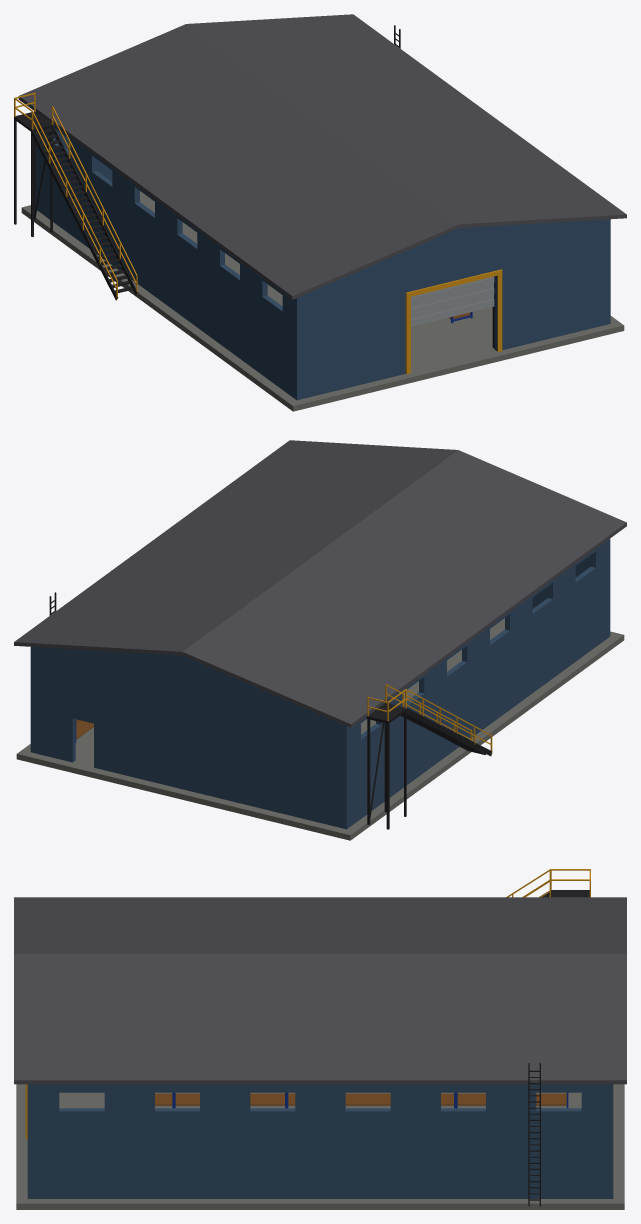
The model's file is warehouse.obj.
The picture shows the model from 3 angles, top to bottom: view 1: azimuth 30°, elevation 25°; view 2: azimuth 150°, elevation 25°; view 3: azimuth 270°, elevation 25°; orthographic projection. The views are drawn at different scales.
Parts seen in each view (by area): view 1: Roof_Left, Roof_Right, LeftWall_BelowWindows, FrontWall_RightOfDoor, FrontWall_LeftOfDoor, Floor, Stairs, FrontWall_Gable, GarageDoor, FrontWall_AboveDoor, Stairs_Railing, RoofPlatform (+1 smaller); view 2: Roof_Left, Roof_Right, BackWall_RightOfDoor, LeftWall_BelowWindows, Floor, BackWall_LeftOfDoor, BackWall_Gable, RoofPlatform, BackWall_AboveDoor, Stairs, Stairs_Railing, FrontWall_LeftOfDoor (+1 smaller); view 3: Roof_Right, RightWall_BelowWindows, Roof_Left, Floor, RightWall_AboveWindows, RightWall_WindowPost_4, RightWall_WindowPost_3, RightWall_WindowPost_5, RightWall_WindowPost_6, RightWall_WindowPost_2, RoofLadder, FrontWall_RightOfDoor (+5 smaller).
Part boxes in pixels (x1=…): Roof_Left: x1=18, y1=24, x2=459, y2=299; Roof_Right: x1=186, y1=14, x2=626, y2=227; LeftWall_BelowWindows: x1=38, y1=135, x2=293, y2=397; FrontWall_RightOfDoor: x1=494, y1=219, x2=610, y2=350; FrontWall_LeftOfDoor: x1=294, y1=263, x2=409, y2=400; Floor: x1=21, y1=191, x2=624, y2=411; Stairs: x1=32, y1=126, x2=137, y2=300; FrontWall_Gable: x1=335, y1=220, x2=584, y2=281; GarageDoor: x1=411, y1=276, x2=494, y2=326; FrontWall_AboveDoor: x1=410, y1=242, x2=497, y2=291; Stairs_Railing: x1=31, y1=106, x2=137, y2=299; RoofPlatform: x1=14, y1=112, x2=53, y2=236; Roof_Left: x1=182, y1=450, x2=626, y2=727; Roof_Right: x1=14, y1=440, x2=457, y2=655; BackWall_RightOfDoor: x1=94, y1=657, x2=349, y2=829; LeftWall_BelowWindows: x1=349, y1=560, x2=607, y2=826; Floor: x1=16, y1=618, x2=624, y2=840; BackWall_LeftOfDoor: x1=30, y1=647, x2=75, y2=762; BackWall_Gable: x1=57, y1=648, x2=307, y2=709; RoofPlatform: x1=366, y1=703, x2=406, y2=829; BackWall_AboveDoor: x1=72, y1=652, x2=93, y2=723; Stairs: x1=400, y1=708, x2=492, y2=756; Stairs_Railing: x1=385, y1=684, x2=492, y2=753; FrontWall_LeftOfDoor: x1=532, y1=539, x2=610, y2=638; Roof_Right: x1=14, y1=954, x2=626, y2=1084; RightWall_BelowWindows: x1=34, y1=1108, x2=606, y2=1198; Roof_Left: x1=14, y1=897, x2=626, y2=953; Floor: x1=16, y1=1084, x2=624, y2=1209; RightWall_AboveWindows: x1=34, y1=1084, x2=606, y2=1092; RightWall_WindowPost_4: x1=295, y1=1092, x2=345, y2=1111; RightWall_WindowPost_3: x1=390, y1=1092, x2=440, y2=1111; RightWall_WindowPost_5: x1=200, y1=1092, x2=250, y2=1111; RightWall_WindowPost_6: x1=104, y1=1092, x2=154, y2=1111; RightWall_WindowPost_2: x1=486, y1=1092, x2=536, y2=1111; RoofLadder: x1=528, y1=1063, x2=540, y2=1206; FrontWall_RightOfDoor: x1=27, y1=1084, x2=34, y2=1198.
Size of the model in its own units: 20.58 by 8.1 by 27.2.
